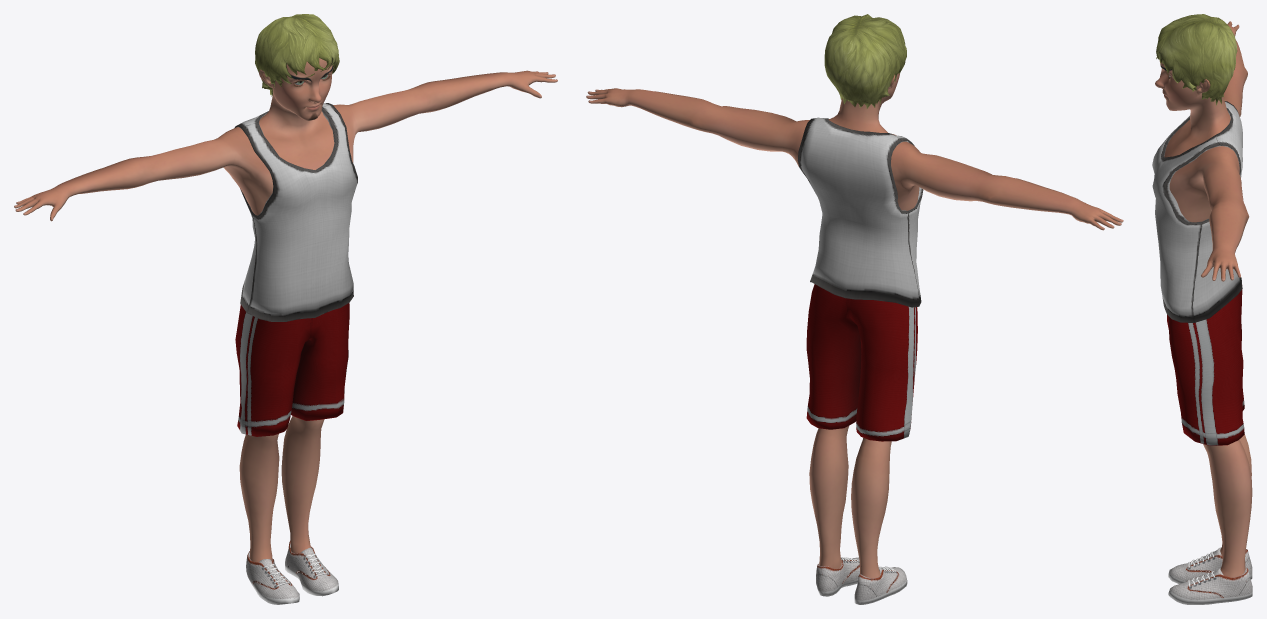
Rendered from Deportista 2.obj.
3 views of the same model, side by side, from view 1: azimuth 30°, elevation 25°; view 2: azimuth 150°, elevation 25°; view 3: azimuth 270°, elevation 25° (orthographic).
Parts seen in each view (by area): view 1: Body, Tops, Bottoms, Hair, Shoes; view 2: Body, Tops, Bottoms, Hair, Shoes; view 3: Body, Tops, Bottoms, Hair, Shoes.
Part boxes in pixels (x1=…): Body: x1=14, y1=58, x2=557, y2=562; Tops: x1=234, y1=103, x2=357, y2=321; Bottoms: x1=235, y1=303, x2=349, y2=436; Hair: x1=255, y1=14, x2=339, y2=96; Shoes: x1=246, y1=540, x2=338, y2=604; Body: x1=586, y1=73, x2=1123, y2=578; Tops: x1=797, y1=117, x2=923, y2=307; Bottoms: x1=806, y1=284, x2=917, y2=441; Hair: x1=824, y1=14, x2=906, y2=108; Shoes: x1=816, y1=557, x2=907, y2=604; Body: x1=1155, y1=21, x2=1252, y2=577; Tops: x1=1152, y1=101, x2=1242, y2=322; Bottoms: x1=1167, y1=289, x2=1244, y2=445; Hair: x1=1156, y1=14, x2=1237, y2=105; Shoes: x1=1168, y1=547, x2=1252, y2=604.
Bounding box in the file's own units: 165 × 167 × 26.67.
1 material, 1 textured.
